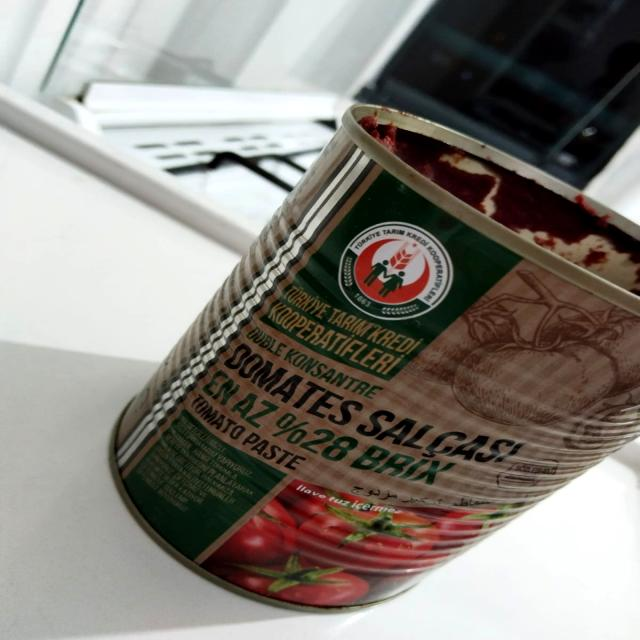tomato paste: (117, 75, 640, 640)
